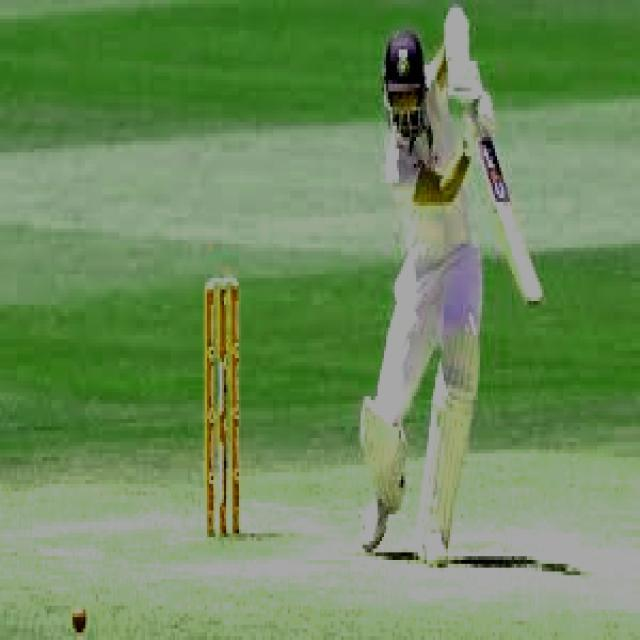bat: (469, 136, 556, 313)
toe: (525, 293, 551, 309)
